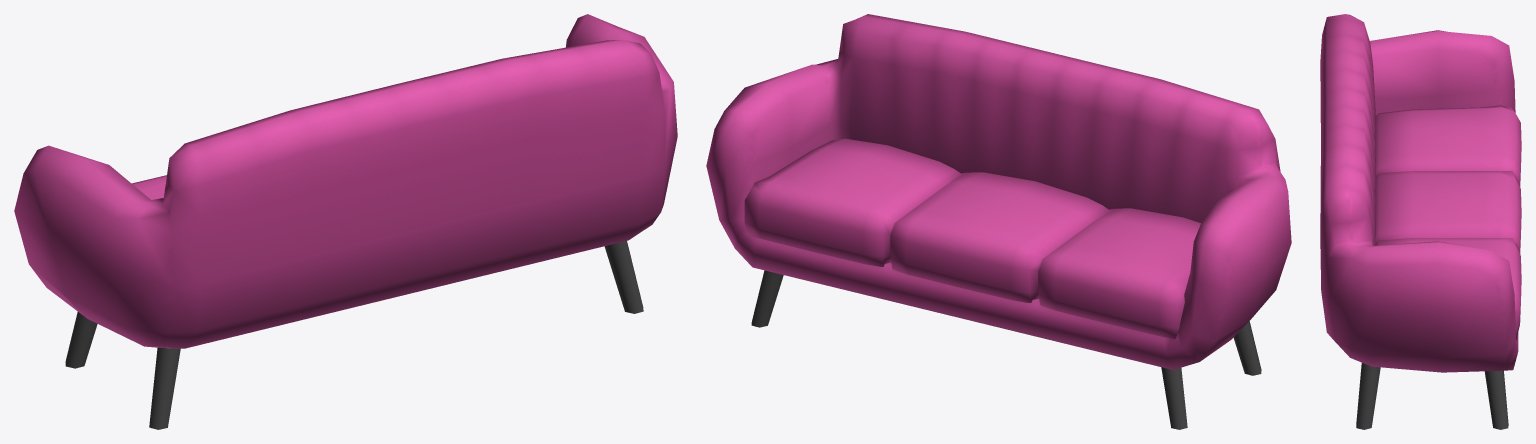
File: FUR0210039.fbx
3 views of the same model, side by side, from view 1: azimuth 30°, elevation 25°; view 2: azimuth 150°, elevation 25°; view 3: azimuth 270°, elevation 25° (orthographic). The views are drawn at different scales.
Visible parts, largest first — view 1: smFUR0210039; view 2: smFUR0210039; view 3: smFUR0210039.
Part boxes in pixels (left/top/right/bottom): smFUR0210039: left=14, top=14, right=677, bottom=429; smFUR0210039: left=706, top=14, right=1291, bottom=429; smFUR0210039: left=1320, top=14, right=1521, bottom=429.
Size of the model in its own units: 240 by 111 by 85.55.
1 material, 1 textured.
